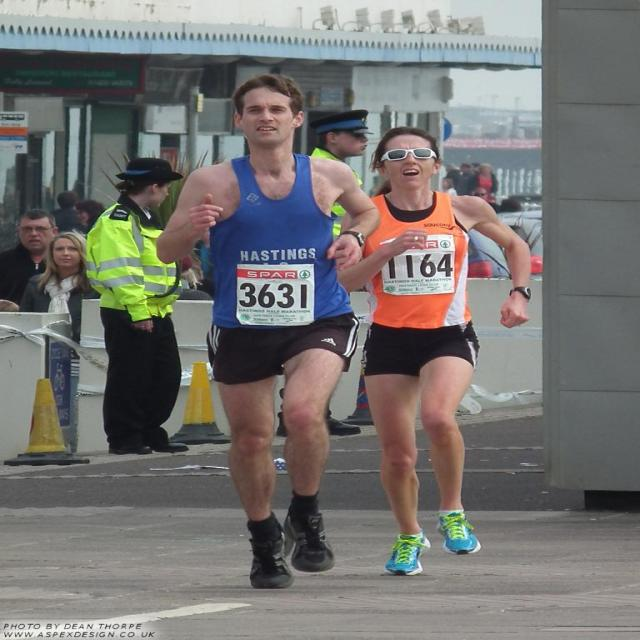Bib: (238, 281, 310, 314), (384, 251, 458, 281)
